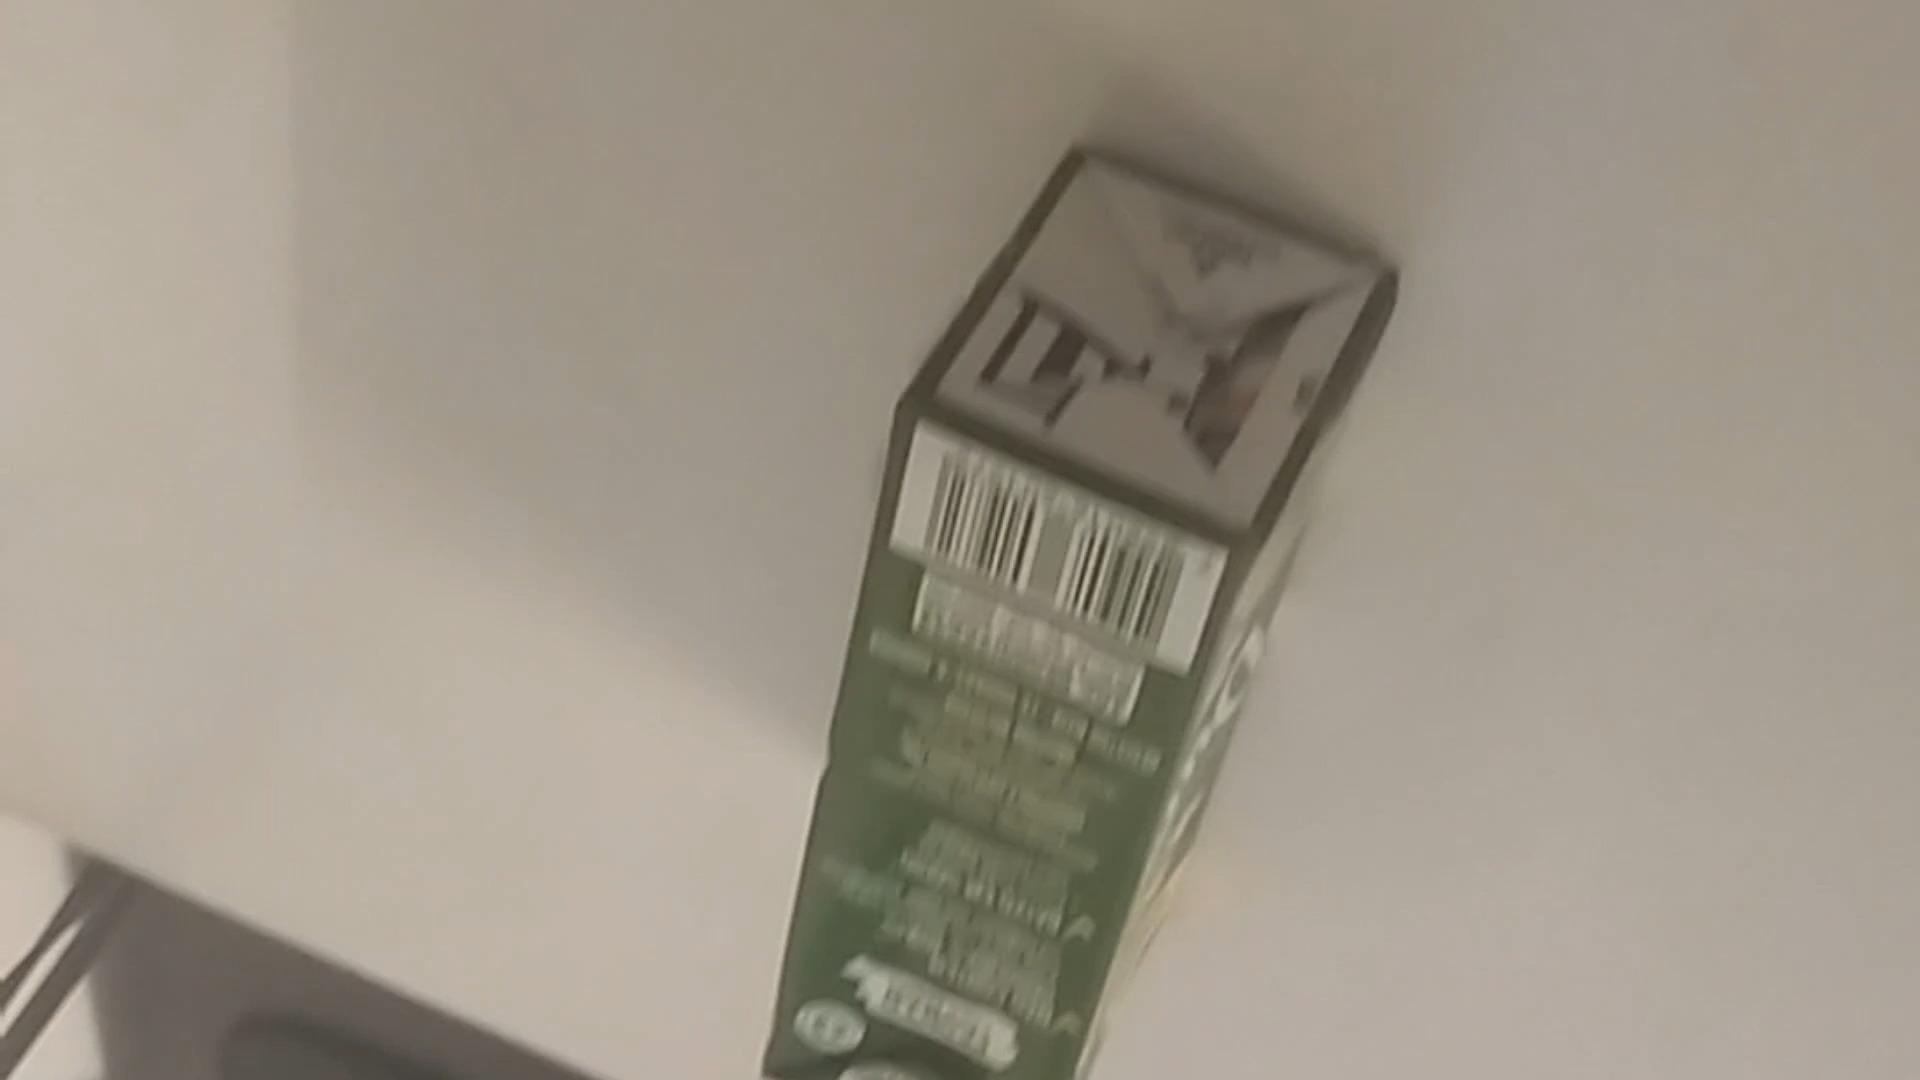coco: (762, 167, 1398, 1077)
